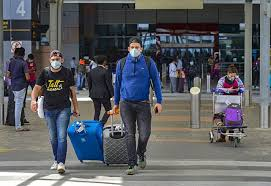mask: (47, 47, 63, 69), (127, 39, 144, 58), (226, 63, 237, 81), (27, 52, 33, 64), (188, 58, 194, 67), (208, 54, 214, 60)
